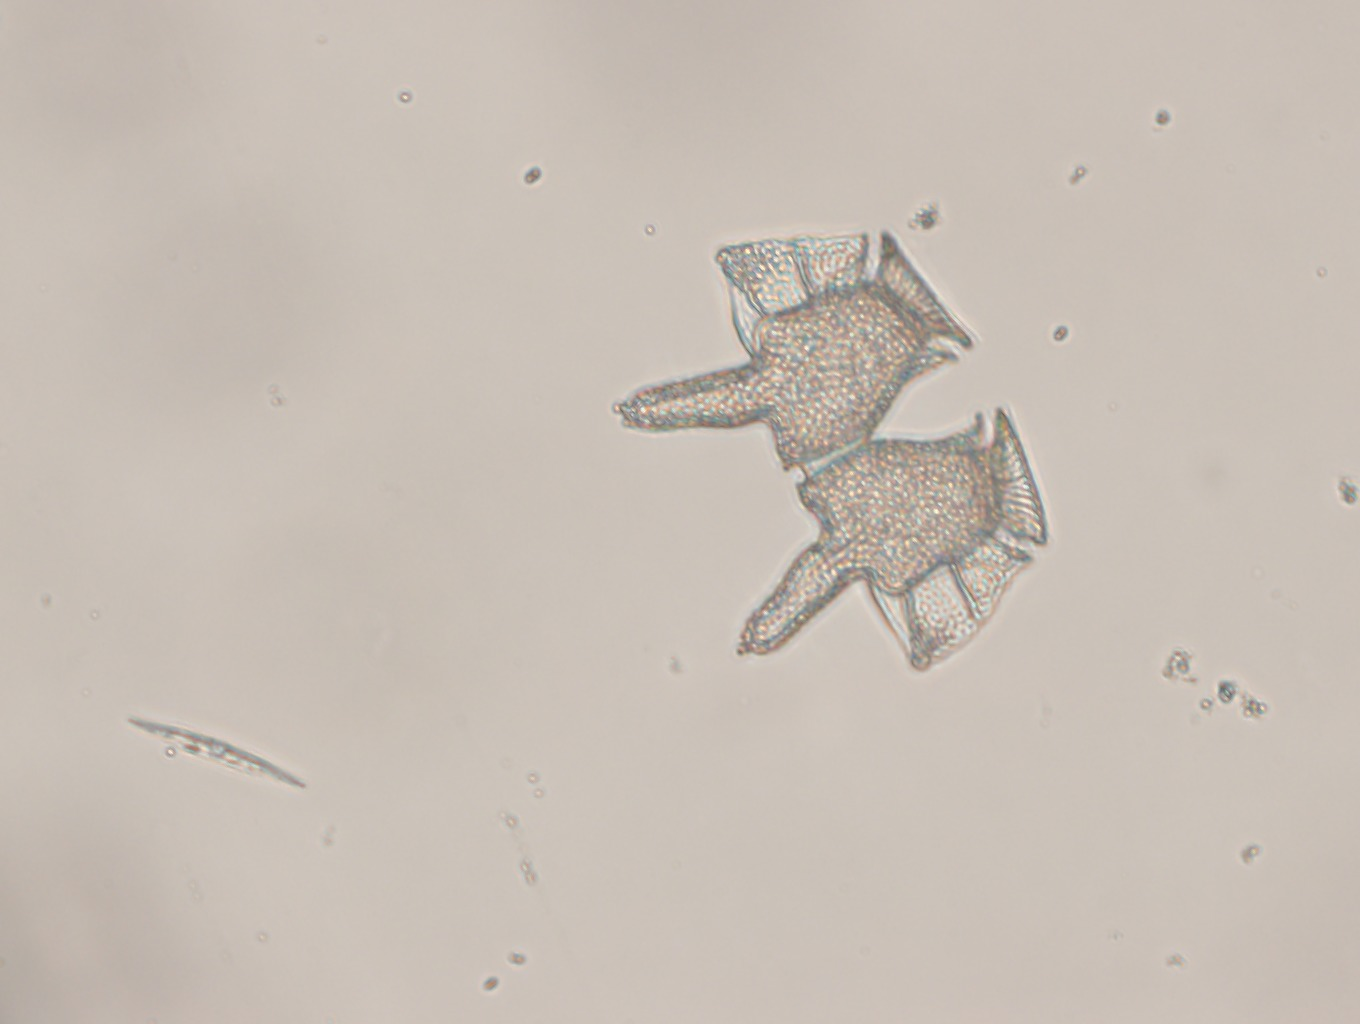dinophysis caudata: (613, 227, 1051, 673)
navicula: (130, 717, 307, 790)
